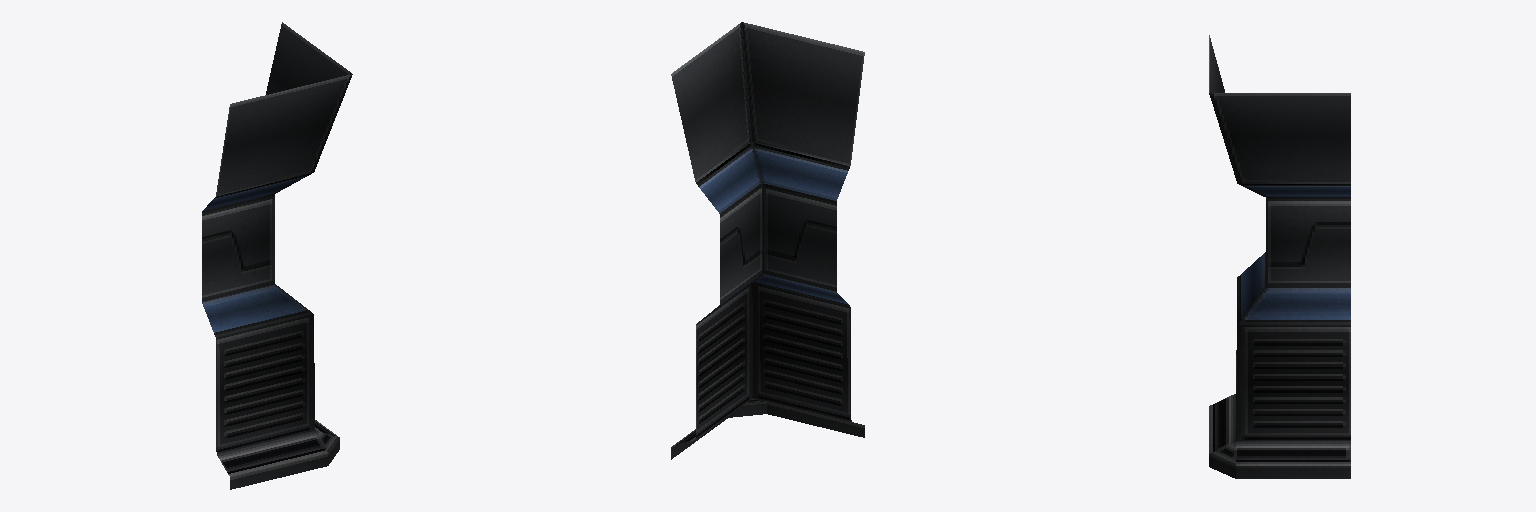
3 renders of one model, left to right at view 1: azimuth 30°, elevation 25°; view 2: azimuth 150°, elevation 25°; view 3: azimuth 270°, elevation 25°, orthographic.
Parts seen in each view (by area): view 1: Plane_Plane.002; view 2: Plane_Plane.002; view 3: Plane_Plane.002.
Part boxes in pixels (x1,y1,x2,y2): Plane_Plane.002: (202, 22, 352, 489); Plane_Plane.002: (671, 22, 864, 459); Plane_Plane.002: (1209, 35, 1350, 478).
Size of the model in its own units: 1 by 3 by 1.
1 materials, 1 textured.